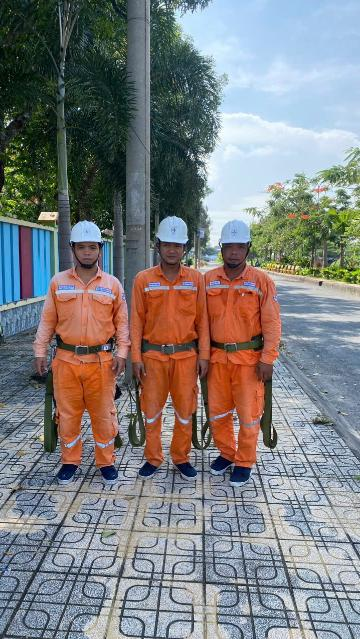harness: (44, 323, 117, 361), (206, 329, 272, 364), (135, 332, 202, 362)
helmet: (211, 206, 257, 248), (66, 210, 106, 250), (154, 211, 191, 250)
shoes: (219, 464, 259, 493), (54, 452, 84, 487), (95, 460, 129, 487), (130, 458, 159, 486), (173, 463, 204, 487), (206, 449, 229, 475)
